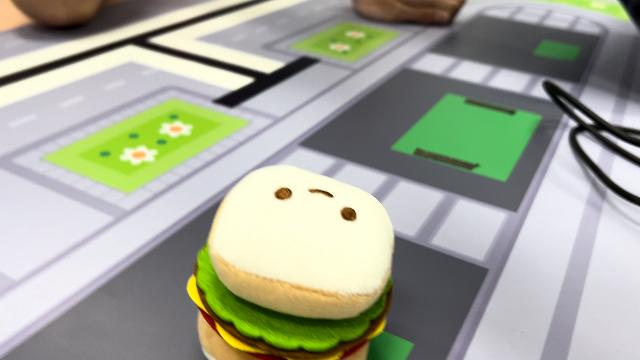sandwich: (185, 162, 398, 358)
